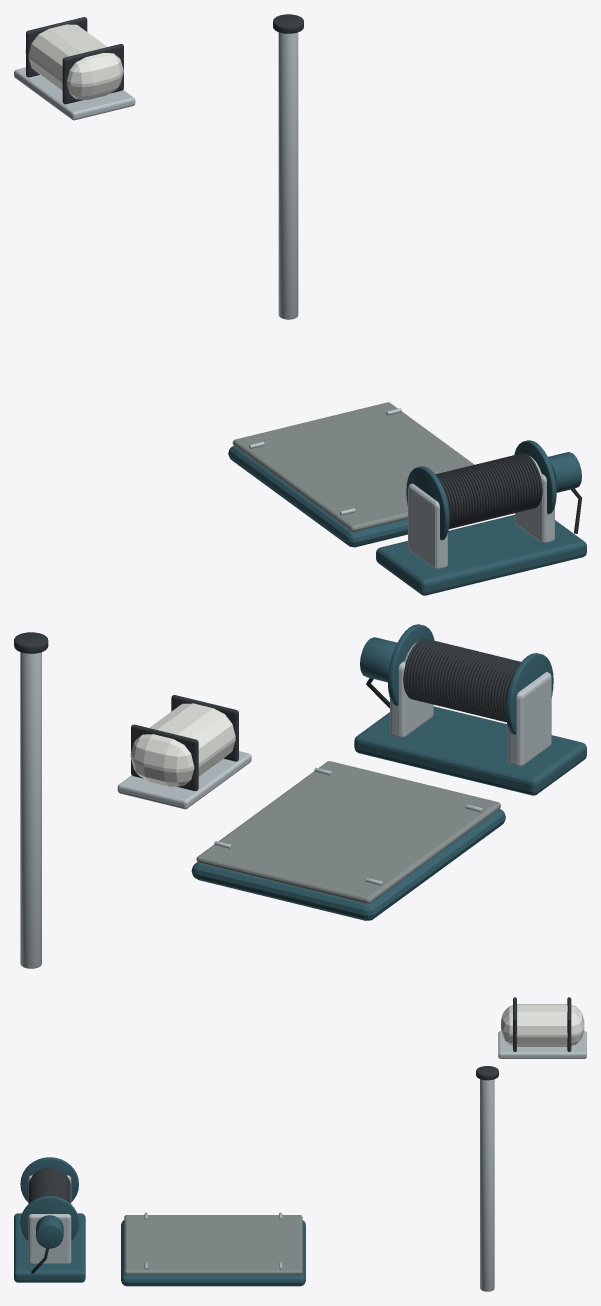
The model's file is coastal_deck_machinery.glb.
3 views of the same model, one above another, from view 1: azimuth 30°, elevation 25°; view 2: azimuth 150°, elevation 25°; view 3: azimuth 270°, elevation 25° (orthographic). The views are drawn at different scales.
Visible parts, largest first — view 1: Flush hatch lid, Winch welded skid, Exhaust riser, Liferaft canister, Deck hatch coaming, Winch bearing pedestal, Liferaft cradle, Winch bearing pedestal.001, Drum flange, Hydraulic drive, Drum flange.001, Raft retention strap; view 2: Flush hatch lid, Winch welded skid, Exhaust riser, Liferaft canister, Deck hatch coaming, Winch bearing pedestal, Liferaft cradle, Winch bearing pedestal.001, Drum flange, Hydraulic drive, Drum flange.001, Raft retention strap.001 (+2 smaller); view 3: Flush hatch lid, Exhaust riser, Liferaft canister, Deck hatch coaming, Winch welded skid, Winch bearing pedestal.001, Liferaft cradle, Drum flange.001, Drum flange, Hydraulic drive.
Part boxes in pixels (left/top/right/bottom): Flush hatch lid: left=232, top=402, right=474, bottom=531; Winch welded skid: left=376, top=514, right=586, bottom=595; Exhaust riser: left=278, top=32, right=298, bottom=319; Liferaft canister: left=25, top=24, right=123, bottom=99; Deck hatch coaming: left=228, top=445, right=407, bottom=547; Winch bearing pedestal: left=408, top=483, right=447, bottom=568; Liferaft cradle: left=14, top=67, right=135, bottom=120; Winch bearing pedestal.001: left=515, top=473, right=554, bottom=542; Drum flange: left=406, top=466, right=449, bottom=540; Hydraulic drive: left=548, top=452, right=581, bottom=492; Drum flange.001: left=514, top=440, right=556, bottom=514; Raft retention strap: left=62, top=44, right=123, bottom=104; Flush hatch lid: left=196, top=761, right=500, bottom=903; Winch welded skid: left=354, top=706, right=586, bottom=795; Exhaust riser: left=20, top=652, right=41, bottom=968; Liferaft canister: left=130, top=703, right=235, bottom=786; Deck hatch coaming: left=191, top=809, right=505, bottom=920; Winch bearing pedestal: left=507, top=672, right=551, bottom=766; Liferaft cradle: left=117, top=751, right=251, bottom=809; Winch bearing pedestal.001: left=390, top=661, right=433, bottom=737; Drum flange: left=505, top=653, right=553, bottom=734; Hydraulic drive: left=360, top=637, right=396, bottom=682; Drum flange.001: left=387, top=624, right=434, bottom=705; Raft retention strap.001: left=131, top=724, right=198, bottom=790; Flush hatch lid: left=124, top=1215, right=302, bottom=1274; Exhaust riser: left=480, top=1079, right=494, bottom=1291; Liferaft canister: left=501, top=1004, right=584, bottom=1046; Deck hatch coaming: left=121, top=1220, right=305, bottom=1286; Winch welded skid: left=14, top=1213, right=85, bottom=1282; Winch bearing pedestal.001: left=28, top=1214, right=71, bottom=1263; Liferaft cradle: left=498, top=1031, right=586, bottom=1058; Drum flange.001: left=20, top=1195, right=78, bottom=1240; Drum flange: left=20, top=1157, right=78, bottom=1202; Hydraulic drive: left=36, top=1215, right=63, bottom=1248.
Bounding box in the file's own units: 2.2 × 2.88 × 6.65.
